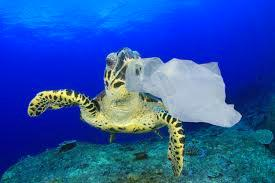Trash: (129, 54, 248, 135)
